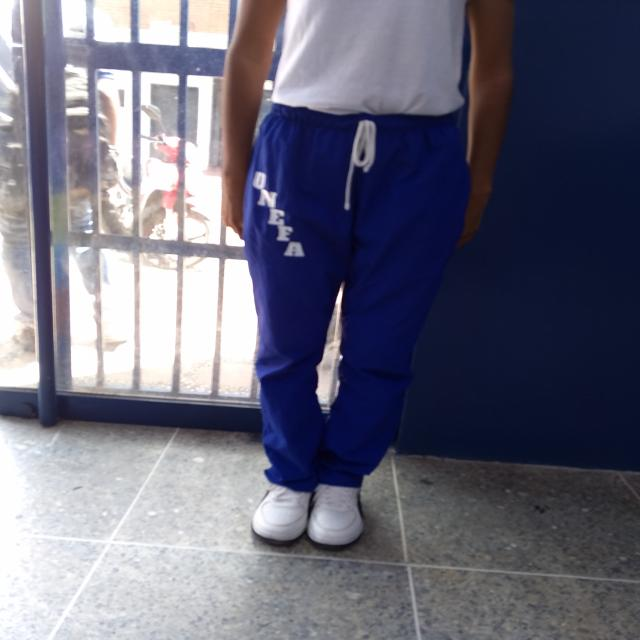uniforme_superior: (242, 103, 471, 493)
